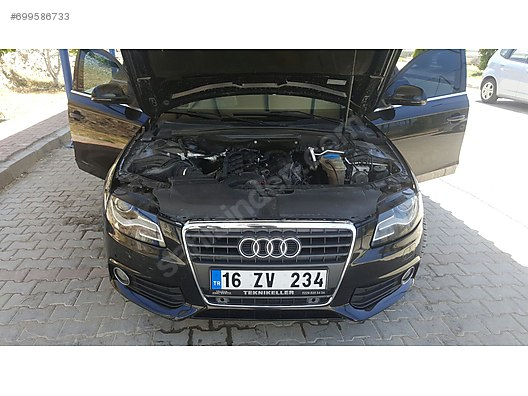audi: (235, 236, 310, 262)
